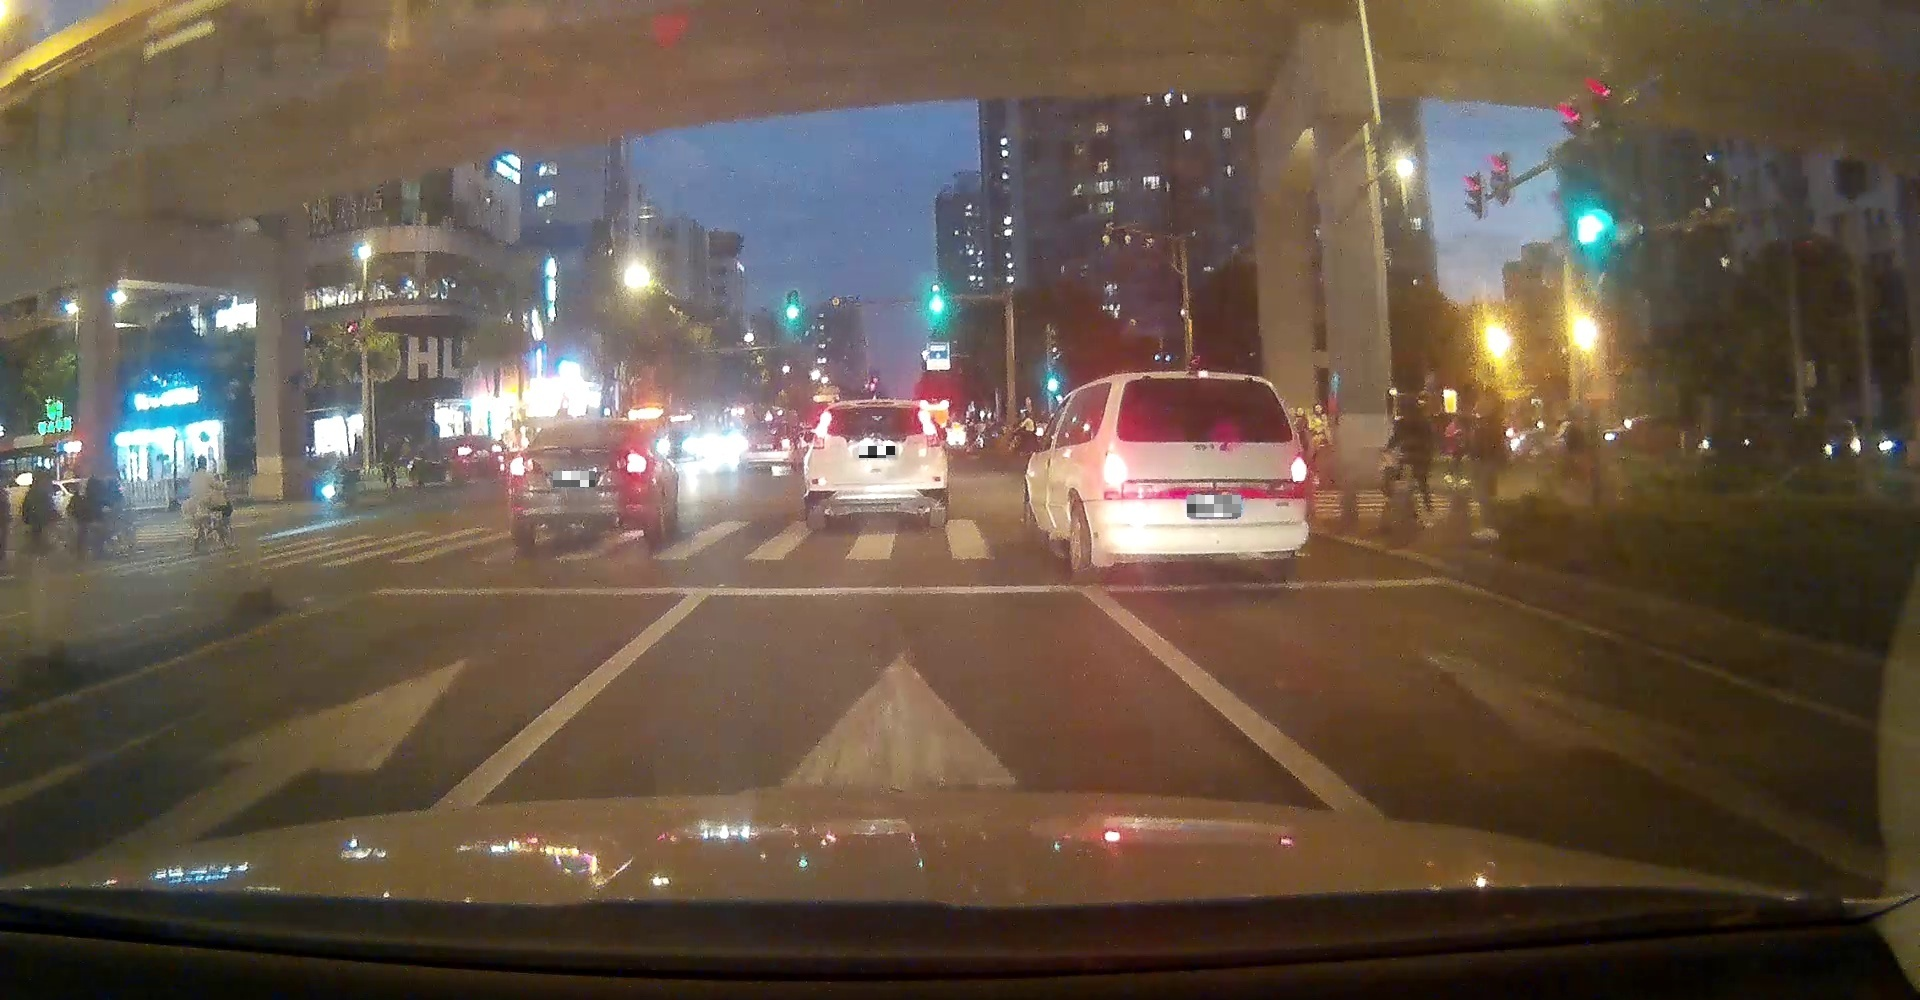L_light: (1106, 451, 1129, 486), (813, 409, 833, 440), (510, 456, 530, 477)
R_light: (916, 406, 940, 439), (1288, 456, 1307, 489), (625, 452, 648, 475)
T_light: (1189, 371, 1210, 381), (869, 401, 886, 409), (577, 421, 596, 428)
night-no: (1105, 369, 1307, 576), (803, 398, 945, 527), (510, 419, 649, 547)
plate_1: (552, 471, 596, 487)
plate_2: (858, 445, 895, 458)
plate_3: (1187, 495, 1241, 516)
